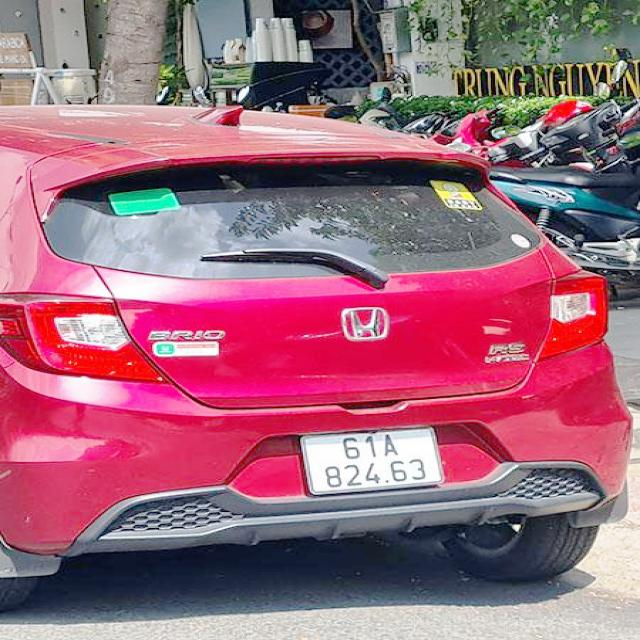license_plate: (298, 428, 447, 500)
